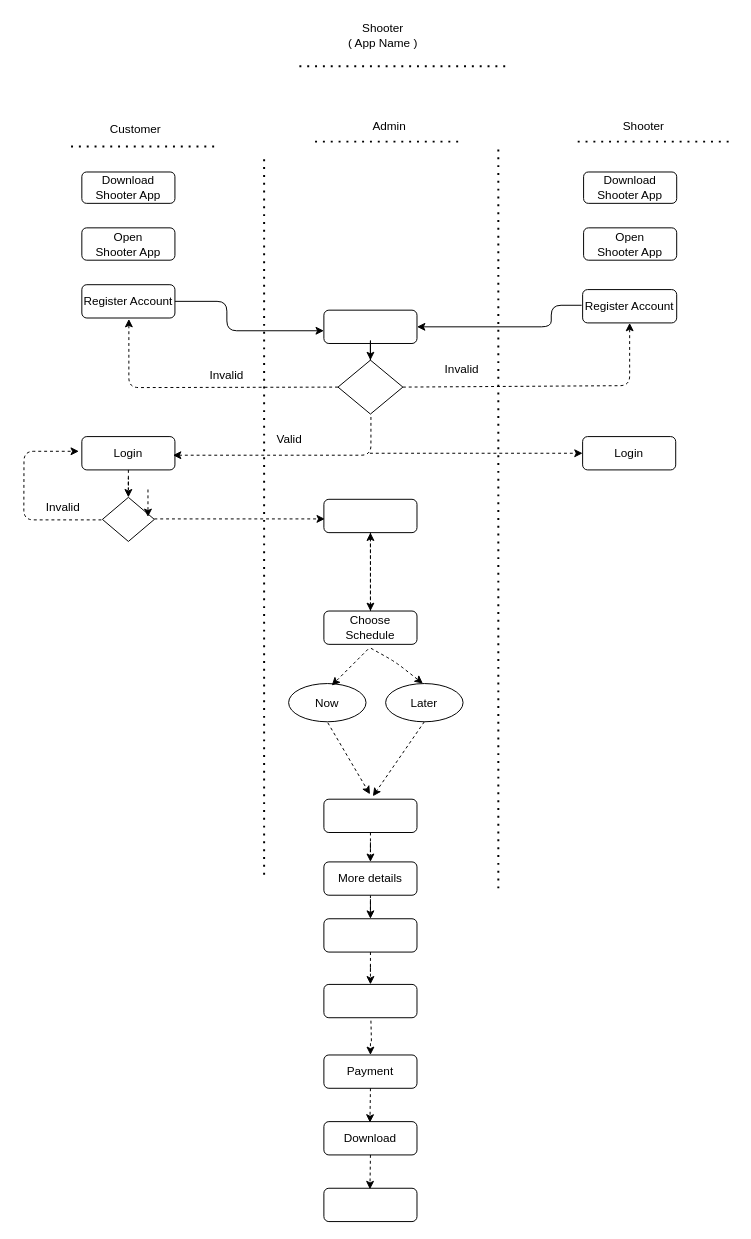
Image size: 751x1239. Some labels were removed from this diagram. The box of each missing label's shape, as (x1, y1, x2, y2) in pixels:
Approve Registration: (323, 309, 417, 343)
Confirm: (323, 983, 417, 1018)
Enter Location: (323, 798, 417, 833)
Review: (323, 1187, 417, 1222)
Search: (323, 918, 417, 952)
Show Shooter Location(Map): (323, 498, 417, 533)
